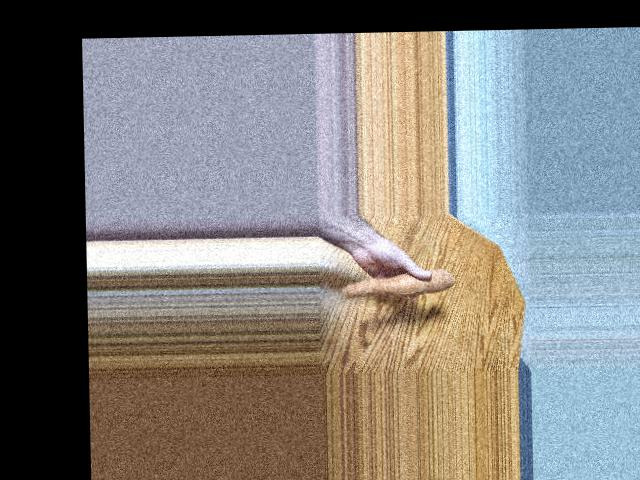sweet_potato: (337, 272, 452, 300)
